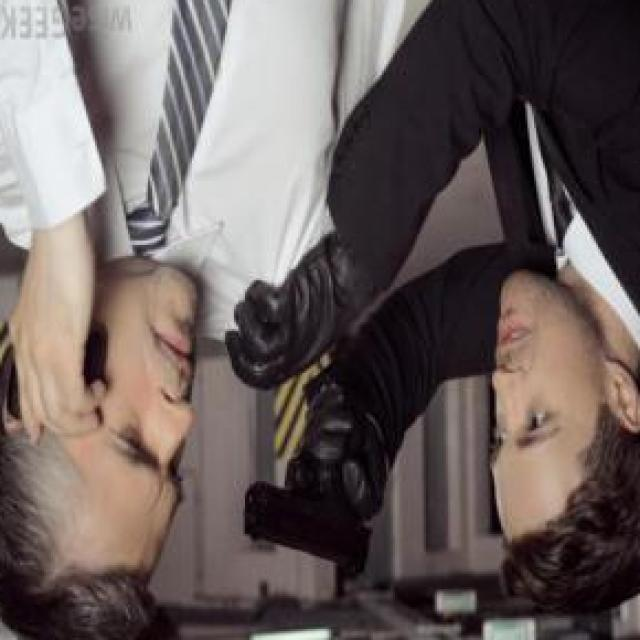pistol: (244, 364, 382, 581)
